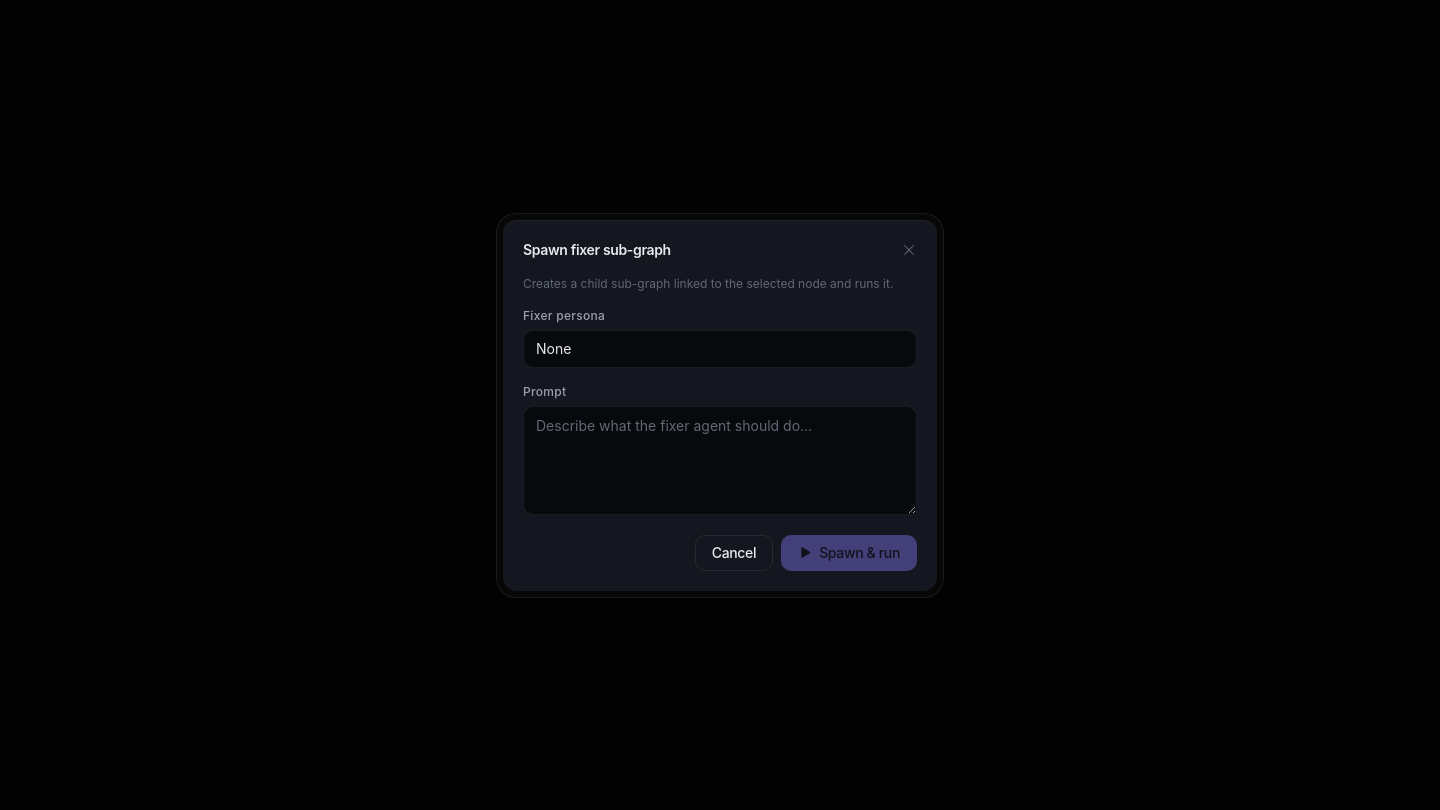
Test: SpawnFixerModal — spawn & run (WOW-4) › disables the submit while the spawn mutation is pending (loading state)
Type "fix it" into the text box with placeholder "Describe what the fixer agent should do…" at (720, 460), box [523,406,917,514]
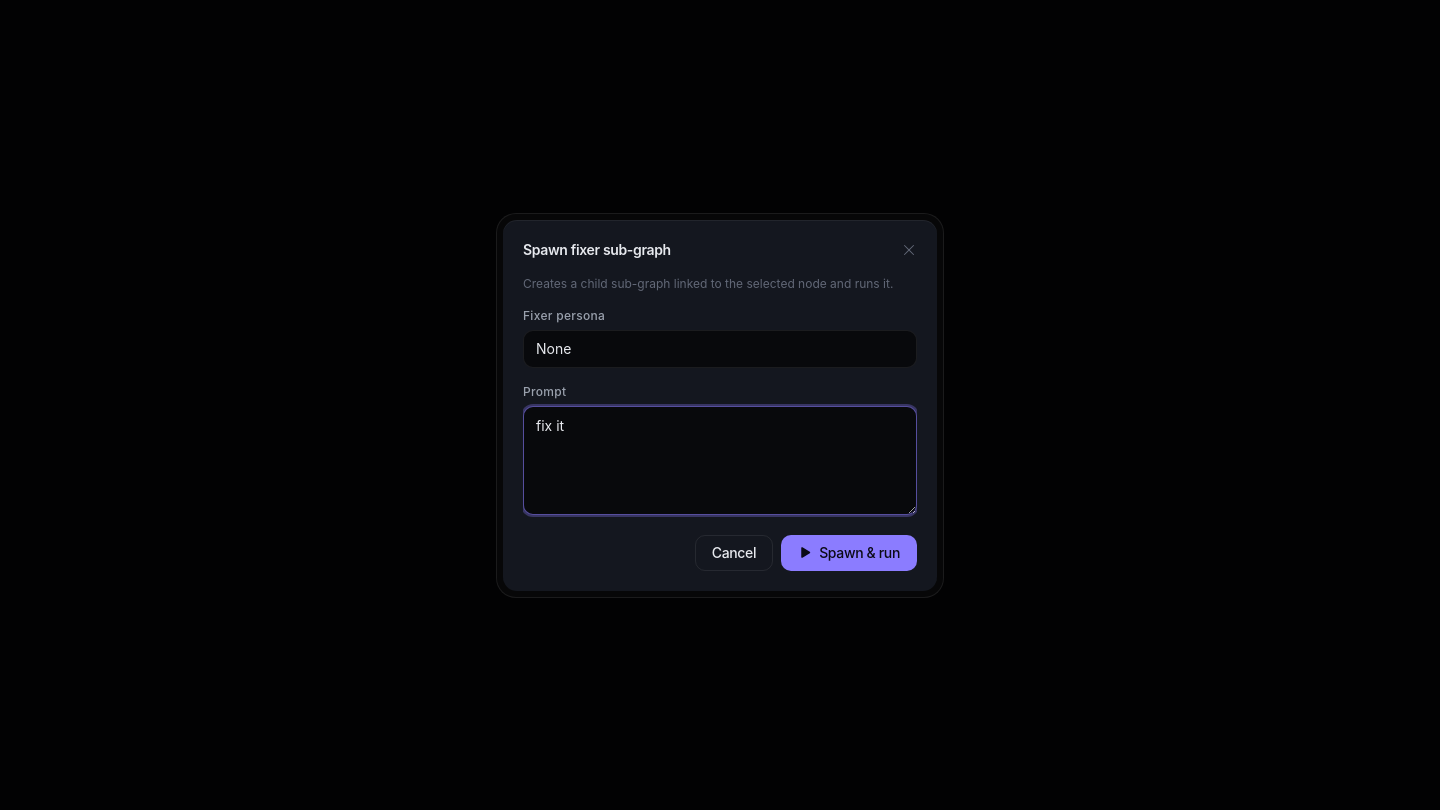
Click the button "Spawn & run" at (849, 552), box [781,534,917,570]
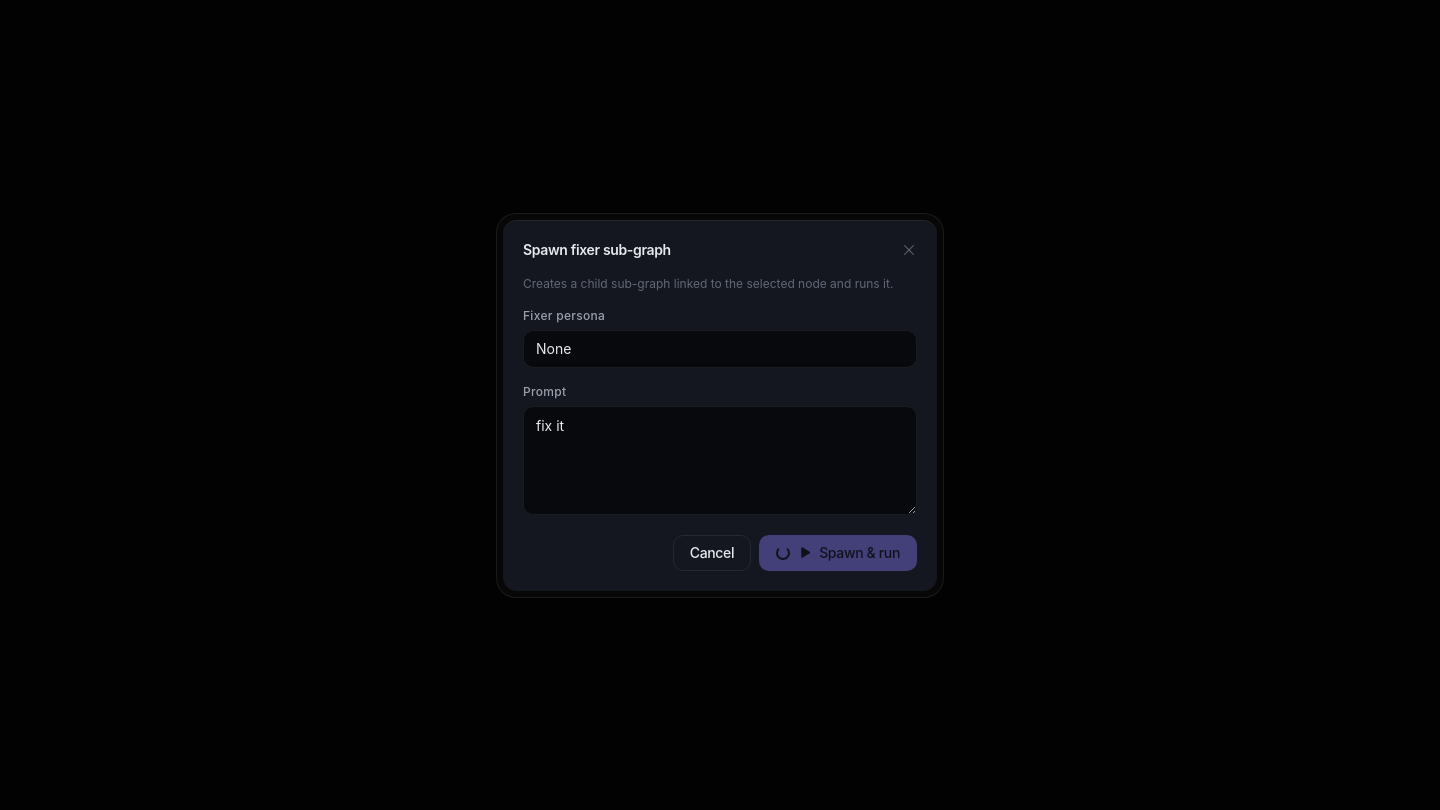
Expected: the button "Spawn & run" is disabled, [759,534,917,570]
